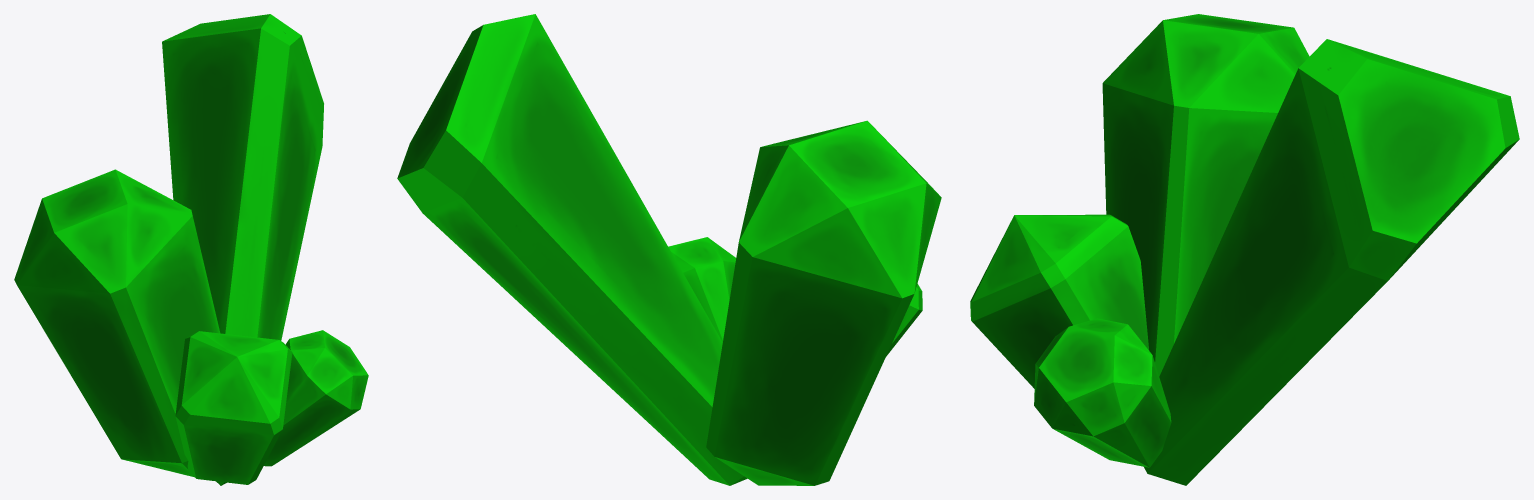
Rendered from GemCluster1.fbx.
The picture shows the model from 3 angles, left to right: view 1: azimuth 30°, elevation 25°; view 2: azimuth 150°, elevation 25°; view 3: azimuth 270°, elevation 25°; orthographic projection. The views are drawn at different scales.
Parts seen in each view (by area): view 1: GemCluster1; view 2: GemCluster1; view 3: GemCluster1.
Part boxes in pixels (x1,y1,x2,y2): GemCluster1: [14, 14, 368, 485]; GemCluster1: [397, 14, 941, 485]; GemCluster1: [970, 14, 1519, 485].
Bounding box in the file's own units: 131 × 137 × 136.
1 material, 1 textured.
